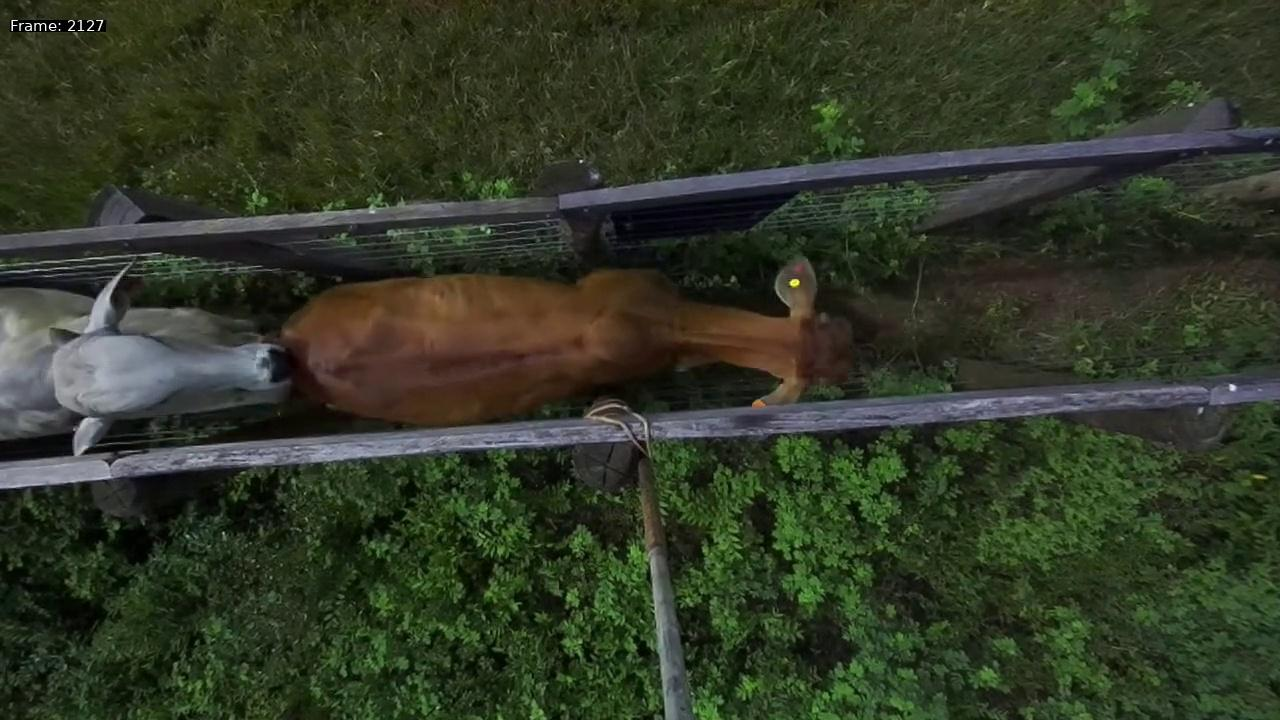cattle: (272, 227, 873, 440)
